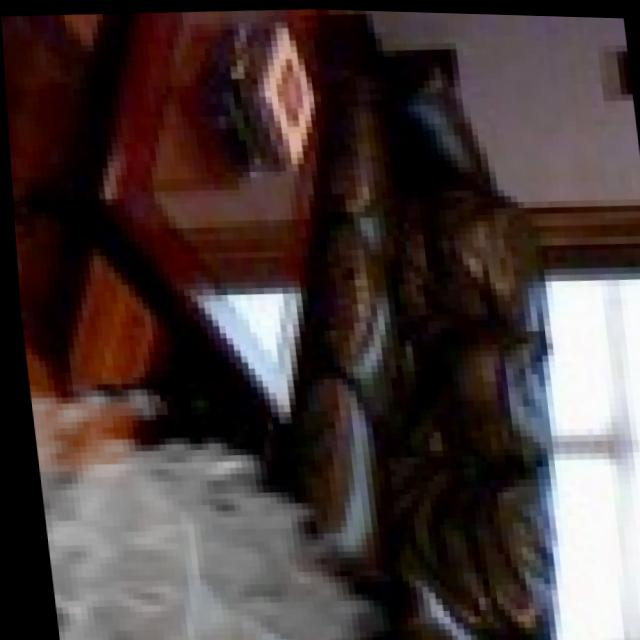smoke: (19, 343, 389, 640)
